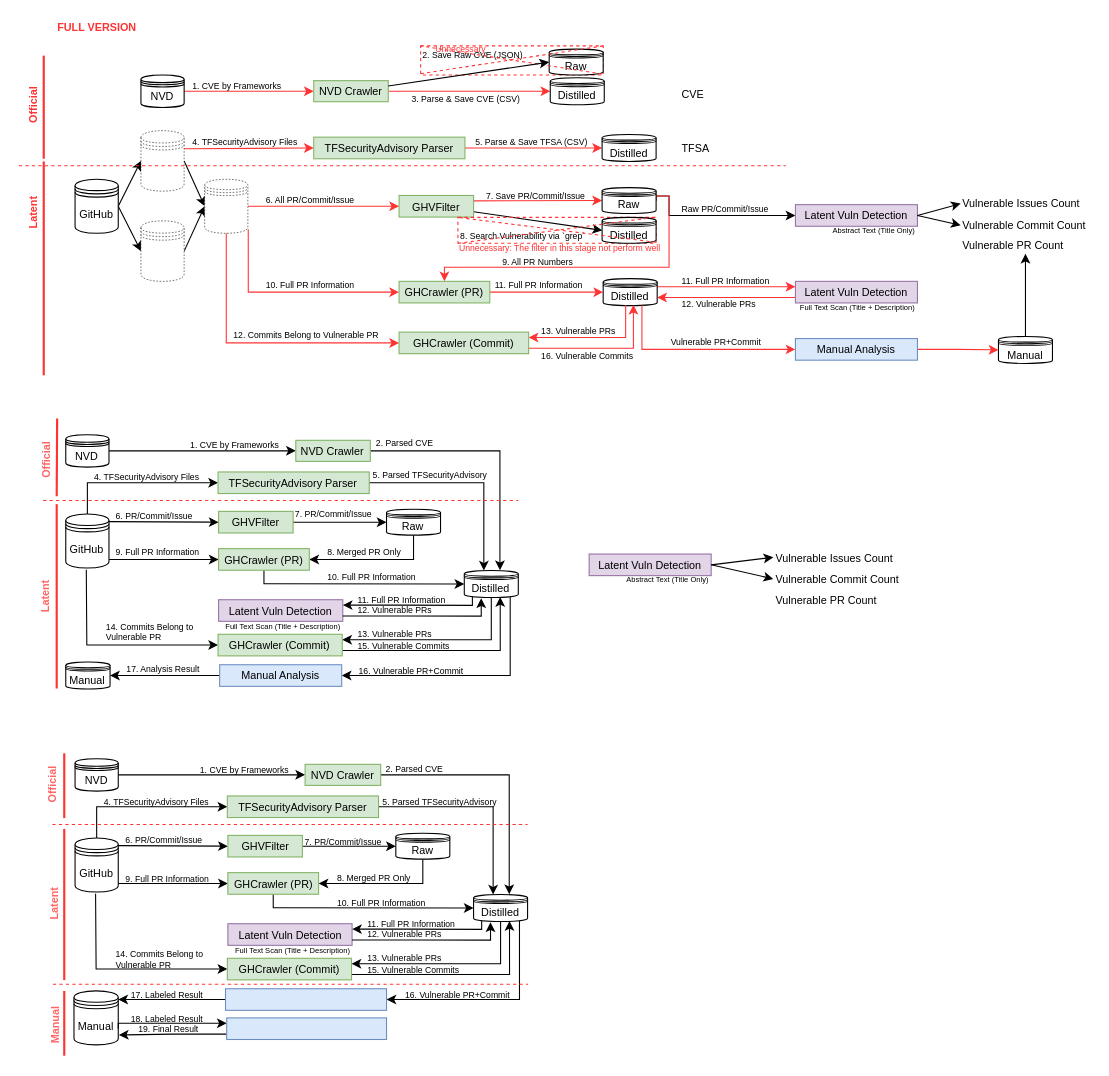
Image size: 1109x1076. Some labels were removed from this diagram. The box of each missing label's shape, as (x1, y1, x2, y2) in pixels:
Code: (204, 179, 248, 233)
Independent Manual Labeling: (224, 988, 387, 1010)
Others: (140, 220, 184, 281)
Resolve Disagreement: (226, 1017, 387, 1040)
TF: (140, 130, 184, 191)
